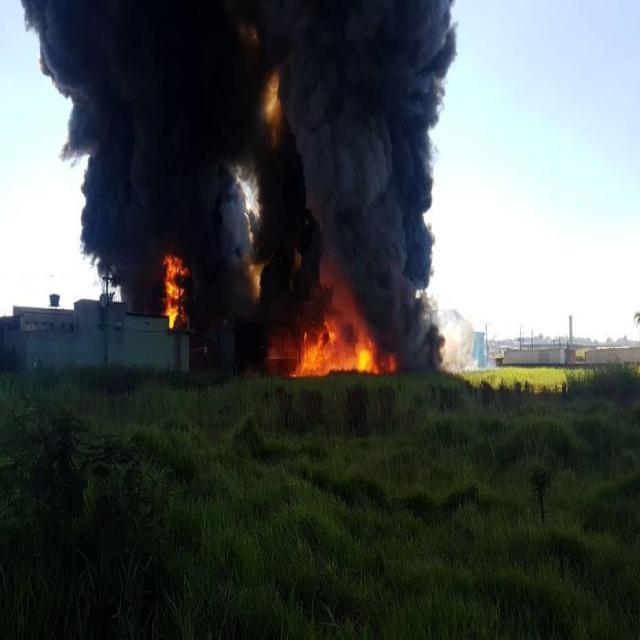Fire: (287, 304, 399, 384), (156, 244, 188, 334)
Smoke: (21, 2, 464, 252), (188, 255, 294, 378), (296, 254, 435, 314), (86, 256, 163, 320), (400, 316, 471, 374)
